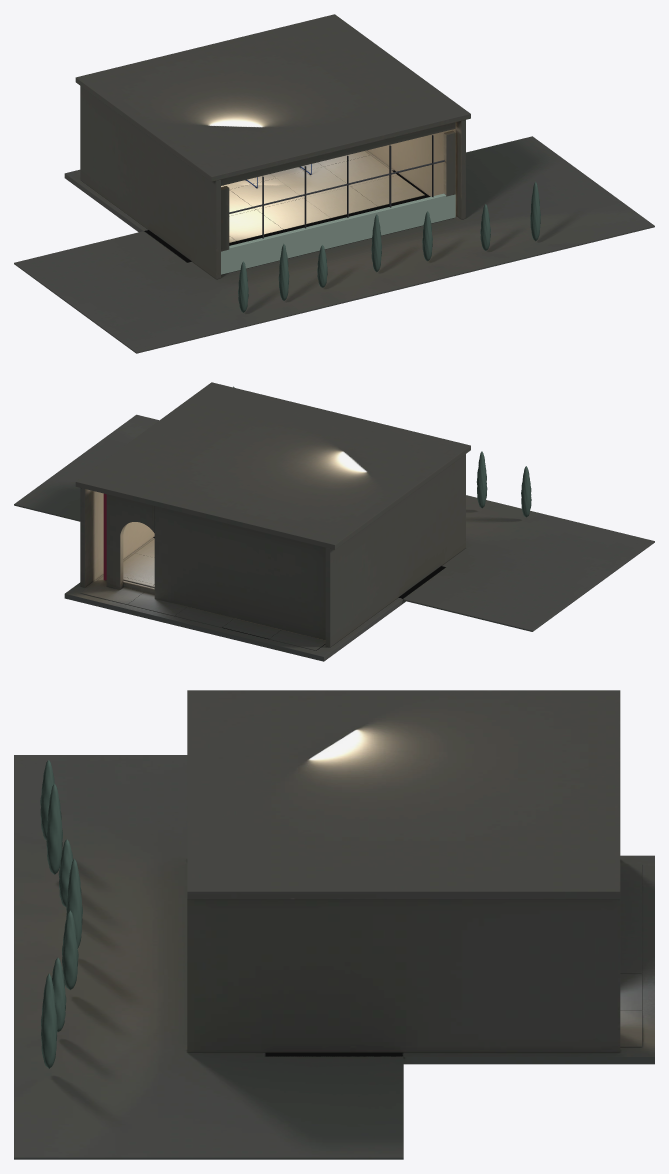
3 views of the same model, one above another, from view 1: azimuth 30°, elevation 25°; view 2: azimuth 150°, elevation 25°; view 3: azimuth 270°, elevation 25° (orthographic). The views are drawn at different scales.
Visible parts, largest first — view 1: Surface / Lime plaster, Surface / Honed travertine, Opposite low wall, Surface / Cypress foliage, Surface / Device graphite; view 2: Surface / Lime plaster, Surface / Honed travertine, Surface / Cypress foliage; view 3: Surface / Lime plaster, Surface / Honed travertine, Surface / Cypress foliage.
Boxes of the visible parts, <box> form: Surface / Lime plaster: <box>75,14,470,279</box>; Surface / Honed travertine: <box>14,136,654,353</box>; Opposite low wall: <box>221,193,455,274</box>; Surface / Cypress foliage: <box>238,181,540,312</box>; Surface / Device graphite: <box>229,135,444,238</box>; Surface / Lime plaster: <box>75,382,470,647</box>; Surface / Honed travertine: <box>14,414,654,661</box>; Surface / Cypress foliage: <box>233,386,531,517</box>; Surface / Lime plaster: <box>187,690,620,1052</box>; Surface / Honed travertine: <box>14,755,654,1159</box>; Surface / Cypress foliage: <box>40,759,82,1068</box>.
Bounding box in the file's own units: 22 × 4.41 × 14.8.
Materials: 26 (6 with a texture image).
